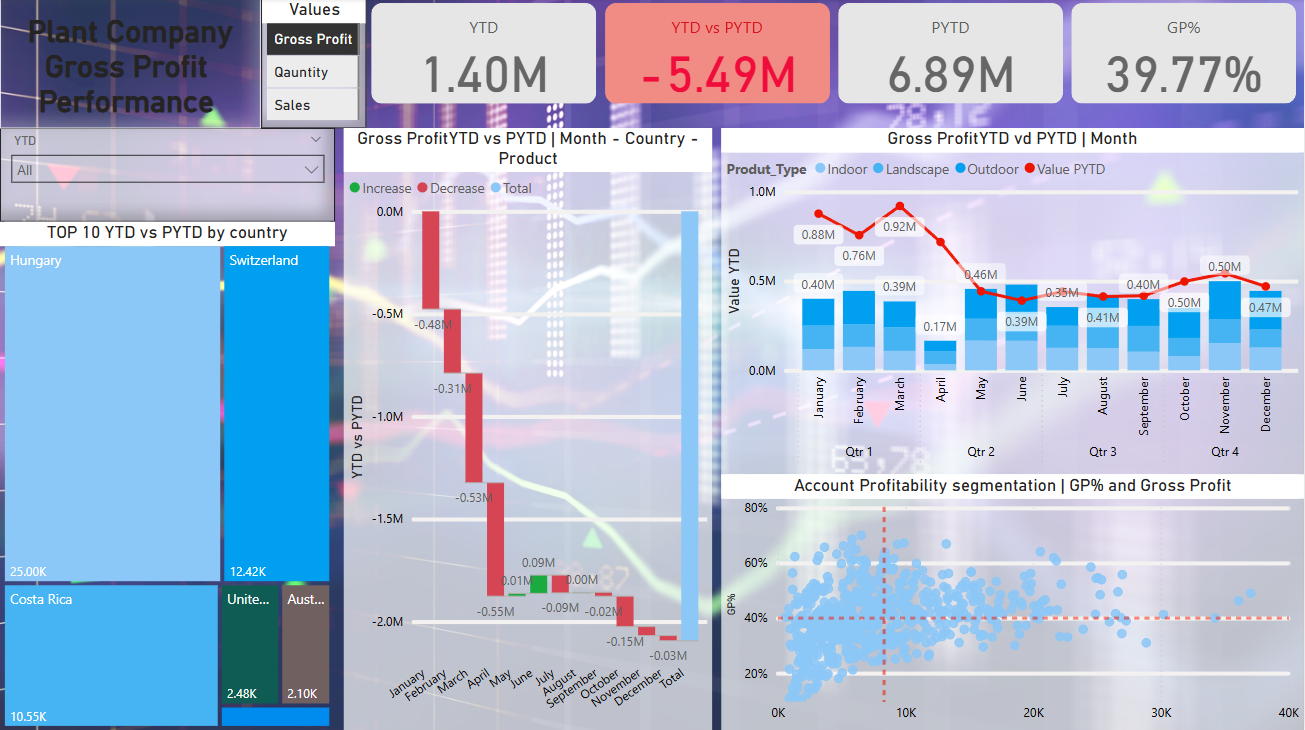

Layout of this report page (visuals, bound fields, positions):
{"tool":"powerbi","page":{"name":"Performance Report","canvas":[1280,720],"ordinal":0},"visuals":[{"type":"cardVisual","fields":{"Data":["_Measures.Switch_YTD","_Measures.YTD vs PYTD","_Measures.Switch_PYTD","_Measures.GP%"]},"box":[359.5,0,920.5,109.5],"z":0},{"type":"advancedSlicerVisual","fields":{"Values":["Slc_Values.Values"]},"box":[256.4,0,103.1,127.6],"z":1000},{"type":"slicer","fields":{"Values":["Dim_Date.Date.Variation.Date Hierarchy.Year"]},"box":[0,127.6,328.8,92],"z":2000},{"type":"treemap","title":"TOP 10 YTD vs PYTD by country","fields":{"Values":["_Measures.YTD vs PYTD"],"Group":["Dim_account.country"]},"box":[0,220.2,328.4,500.1],"z":3000},{"type":"waterfallChart","fields":{"Y":["_Measures.YTD vs PYTD"],"Category":["Dim_Date.Date.Variation.Date Hierarchy.Month","Dim_account.country","Dim_product.Produt_Type","Dim_product.Product_Name_id"]},"box":[337.4,127.6,362,592.6],"z":4000},{"type":"lineStackedColumnComboChart","fields":{"Y":["_Measures.Switch_YTD"],"Y2":["_Measures.Switch_PYTD"],"Category":["Dim_Date.Date.Variation.Date Hierarchy.Quarter","Dim_Date.Date.Variation.Date Hierarchy.Month"],"Series":["Dim_product.Produt_Type"]},"box":[708,127.6,571.8,339.9],"z":5000},{"type":"scatterChart","fields":{"Y":["_Measures.GP%"],"X":["_Measures.Switch_YTD"],"Category":["Dim_account.Account"]},"box":[707.8,467.7,572.2,252.5],"z":6000},{"type":"card","fields":{"Values":["_Measures._Report title"]},"box":[0,0,256.3,128.1],"z":7000}]}

Visuals, with their boxes in screenshot pixels (x1, y1, x2, y2), scaled from the page's 1280x720 canvas onto the 1305x730 screenshot:
cardVisual - _Measures.Switch_YTD x _Measures.YTD vs PYTD: 367:0:1304:111
advancedSlicerVisual - Slc_Values.Values: 261:0:367:129
slicer - Dim_Date.Date.Variation.Date Hierarchy.Year: 0:129:335:223
"TOP 10 YTD vs PYTD by country" treemap: 0:223:335:729
waterfallChart - _Measures.YTD vs PYTD x Dim_Date.Date.Variation.Date Hierarchy.Month: 344:129:713:729
lineStackedColumnComboChart - _Measures.Switch_YTD x _Measures.Switch_PYTD: 722:129:1304:474
scatterChart - _Measures.GP% x _Measures.Switch_YTD: 722:474:1304:729
card - _Measures._Report title: 0:0:261:130
